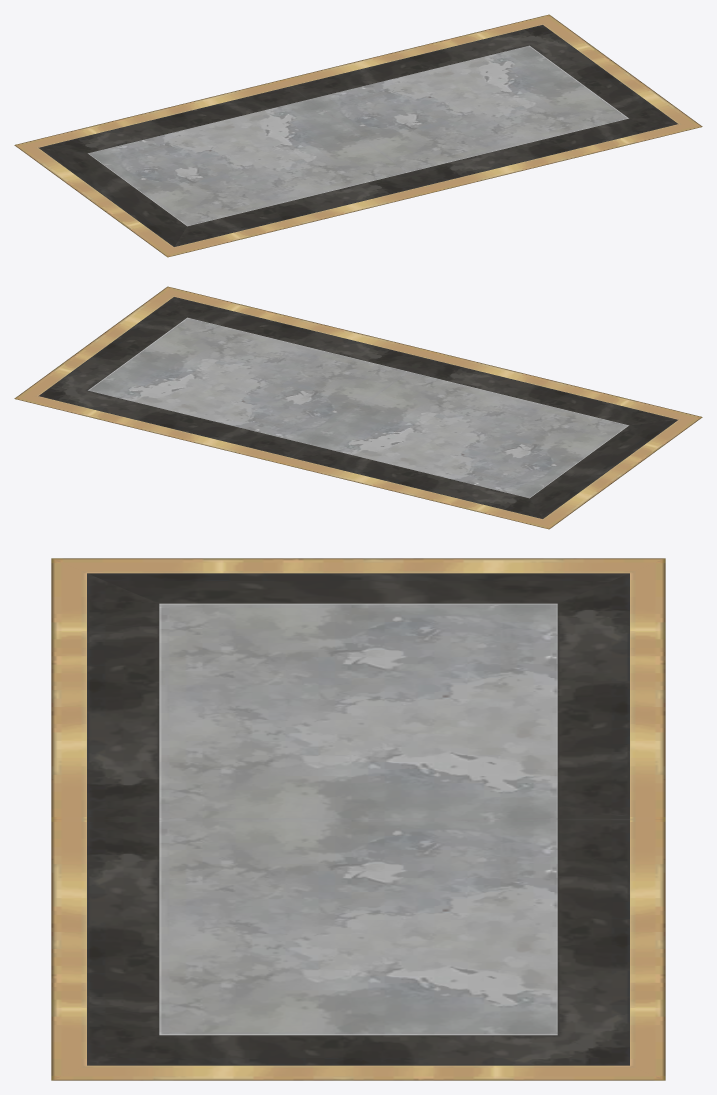
Rendered from my_shoppingmall_01_carpet_02.glb.
The picture shows the model from 3 angles, top to bottom: view 1: azimuth 30°, elevation 25°; view 2: azimuth 150°, elevation 25°; view 3: azimuth 270°, elevation 25°; orthographic projection. The views are drawn at different scales.
Visible parts, largest first — view 1: my_shoppingmall_01_carpet_02; view 2: my_shoppingmall_01_carpet_02; view 3: my_shoppingmall_01_carpet_02.
Part boxes in pixels (x1=…): my_shoppingmall_01_carpet_02: x1=14, y1=14, x2=702, y2=257; my_shoppingmall_01_carpet_02: x1=14, y1=286, x2=702, y2=529; my_shoppingmall_01_carpet_02: x1=51, y1=558, x2=665, y2=1080.
Size of the model in its own units: 0.0239 by 0 by 0.0119.
Materials: 1 (1 with a texture image).
